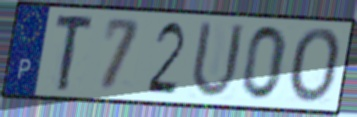0: (238, 24, 293, 102)
2: (146, 20, 188, 97)
7: (99, 16, 144, 94)
O: (287, 26, 345, 107)
T: (53, 13, 97, 94)
U: (187, 18, 247, 102)
